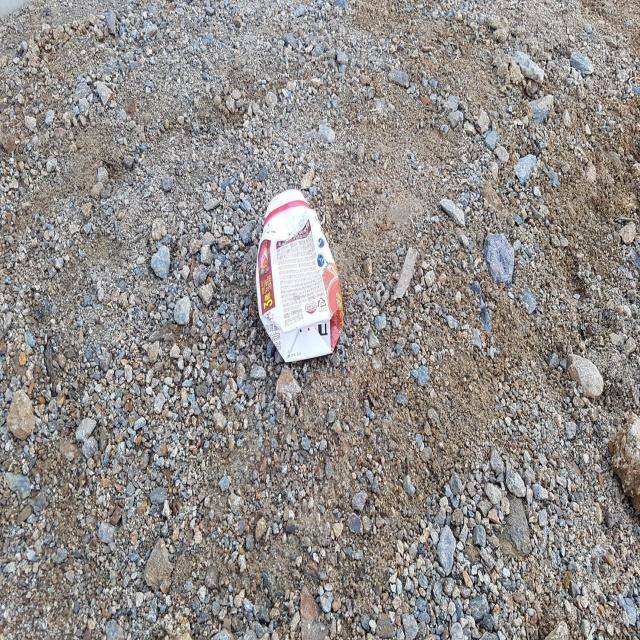paperpack: (256, 188, 343, 361)
